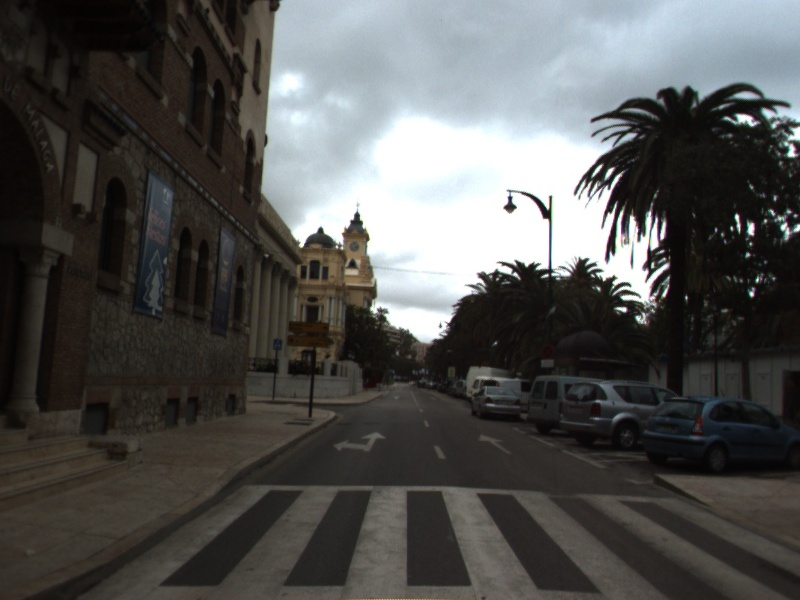STRAIGHT: (476, 432, 514, 456)
STRAIGHT_LEFT: (331, 429, 388, 454)
